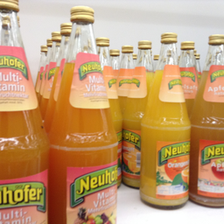juice: (48, 6, 118, 224), (1, 1, 50, 224), (137, 33, 192, 210), (190, 35, 224, 207)
